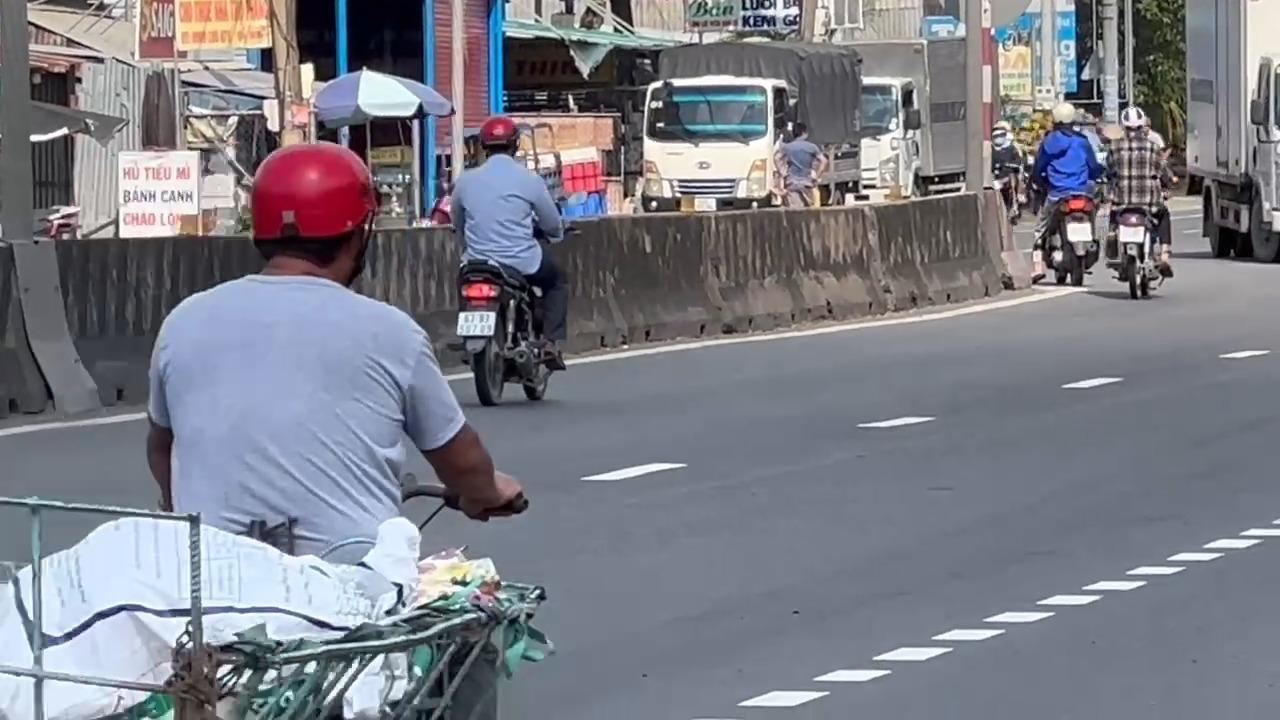bien_so: (456, 310, 496, 337)
